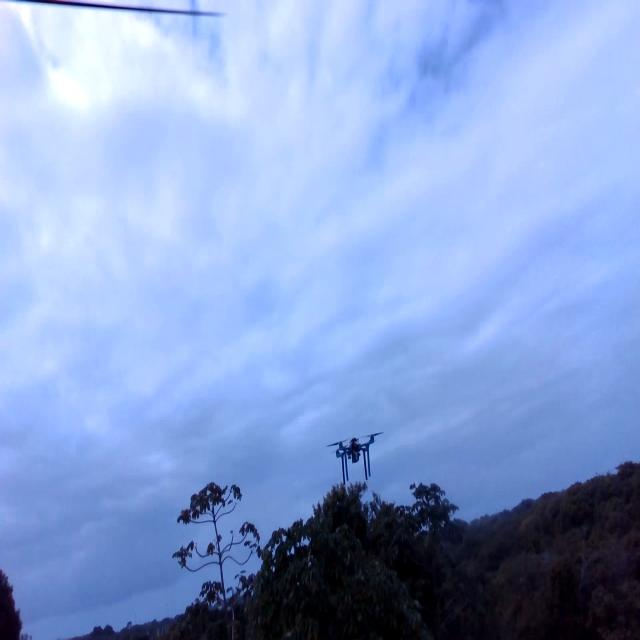-uav-: (323, 427, 385, 489)
